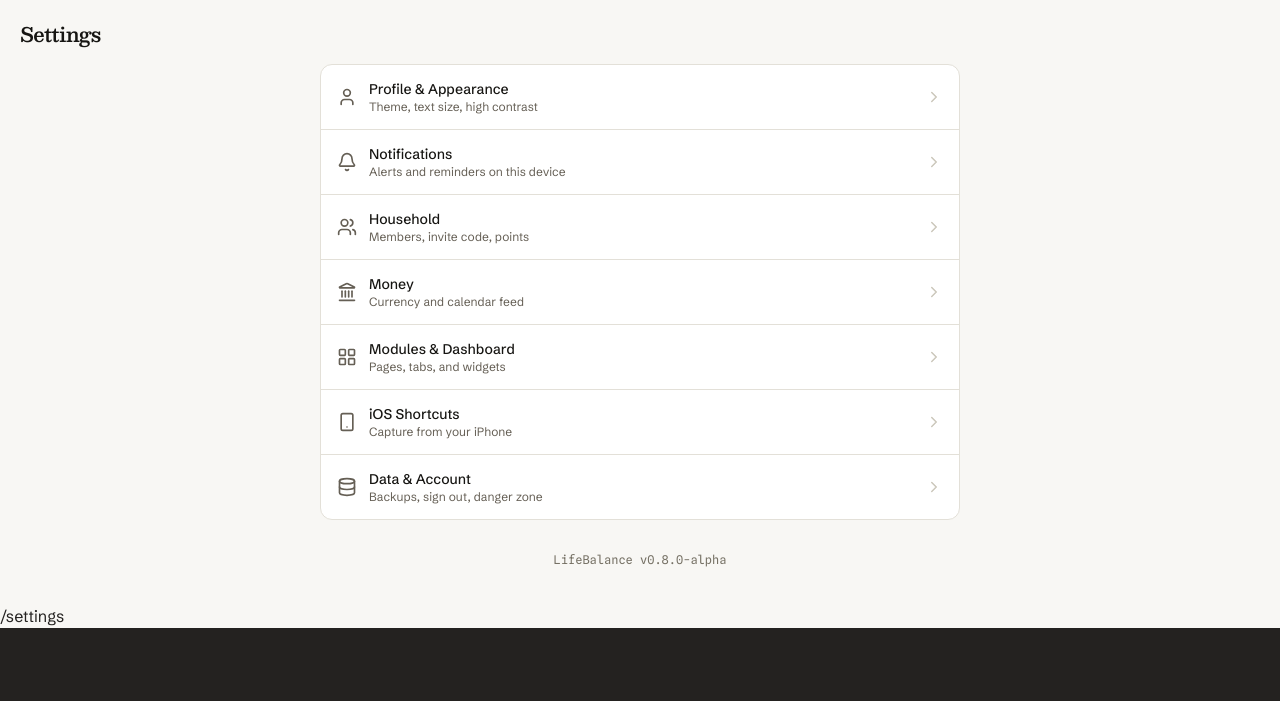
Test: Settings index + sub-screens › returns to the index via the back button
The image size is (1280, 701).
What coordinates should you click on to do the following:
click the text "Household"
I would click on:
 (405, 219)
Its box is [369, 210, 440, 228].
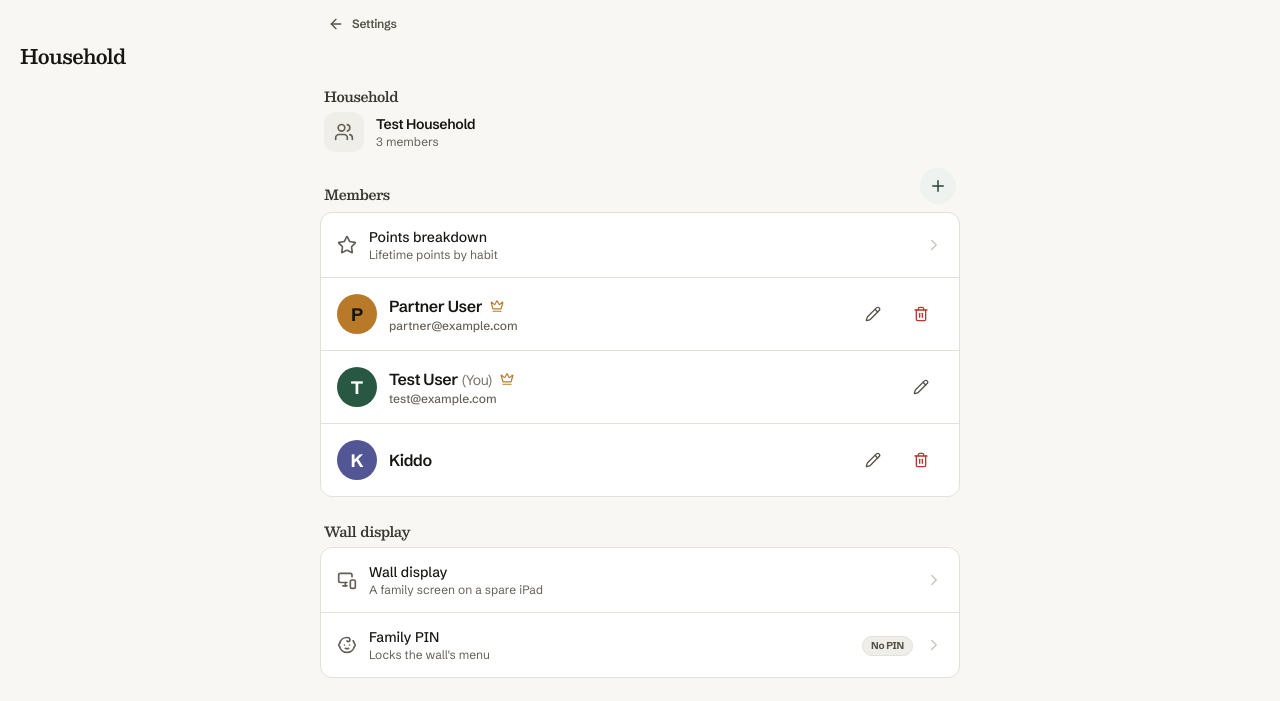
What coordinates should you click on to do the following:
click the button with aria-label "back to settings"
I would click on:
 (362, 24)
Its box is [316, 12, 409, 36].
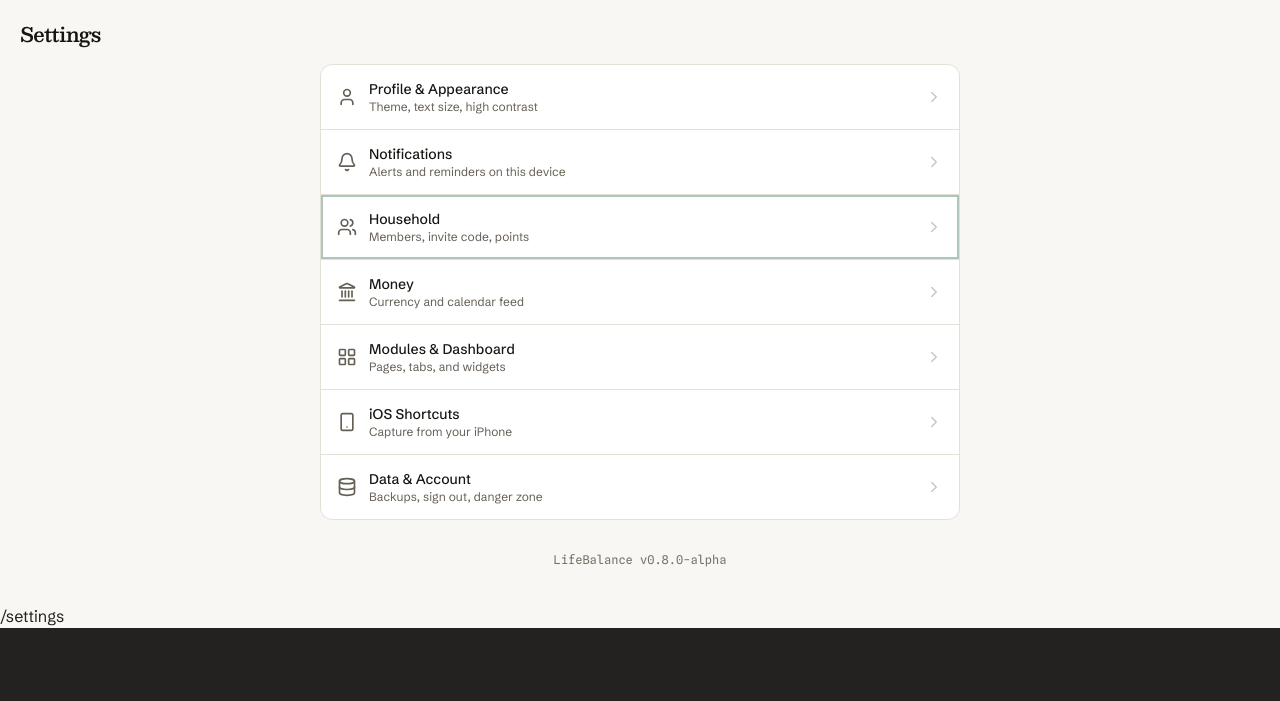
Expected: the navigation bar named "settings sections" is shown, [320, 64, 960, 520]
